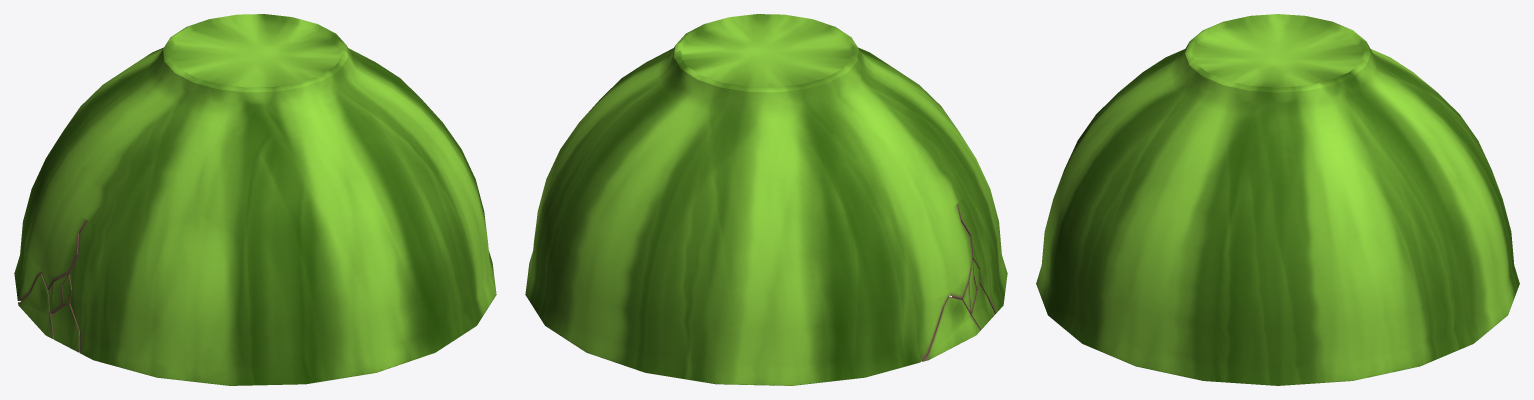
File: bowl_breakable.fbx
3 views of the same model, side by side, from view 1: azimuth 30°, elevation 25°; view 2: azimuth 150°, elevation 25°; view 3: azimuth 270°, elevation 25° (orthographic).
Visible parts, largest first — view 1: bowl_broken, shard1, shard3, shard2; view 2: bowl_broken, shard1, shard3, shard2; view 3: bowl_broken.
Boxes of the visible parts, bbox=[...] form: bowl_broken: bbox=[14, 14, 496, 385]; shard1: bbox=[18, 274, 53, 339]; shard3: bbox=[51, 304, 79, 352]; shard2: bbox=[48, 274, 69, 313]; bowl_broken: bbox=[525, 14, 1007, 385]; shard1: bbox=[921, 296, 980, 361]; shard3: bbox=[970, 284, 995, 329]; shard2: bbox=[952, 260, 976, 314]; bowl_broken: bbox=[1036, 14, 1519, 385].
Size of the model in its own units: 2347 by 1246 by 2347.
1 material, 1 textured.
